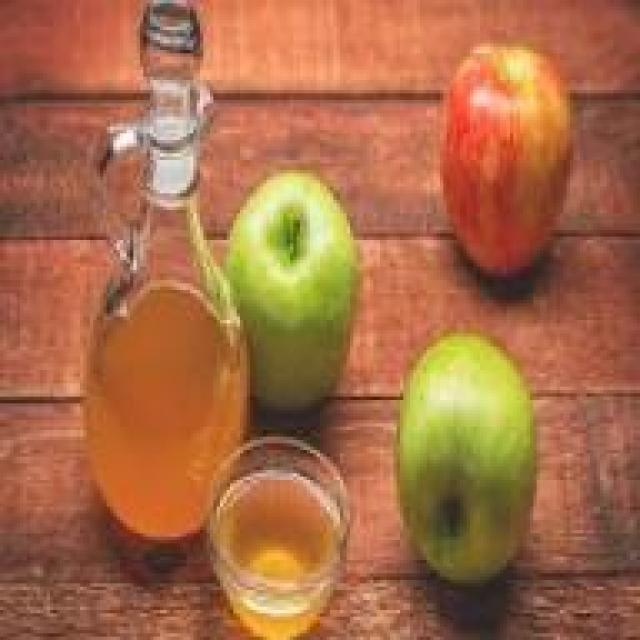apple: (217, 164, 383, 404), (437, 40, 590, 300), (386, 337, 536, 590)
